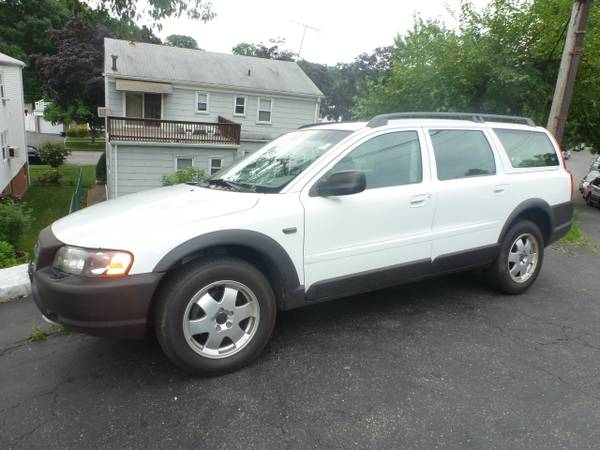volvo: (13, 102, 600, 386)
